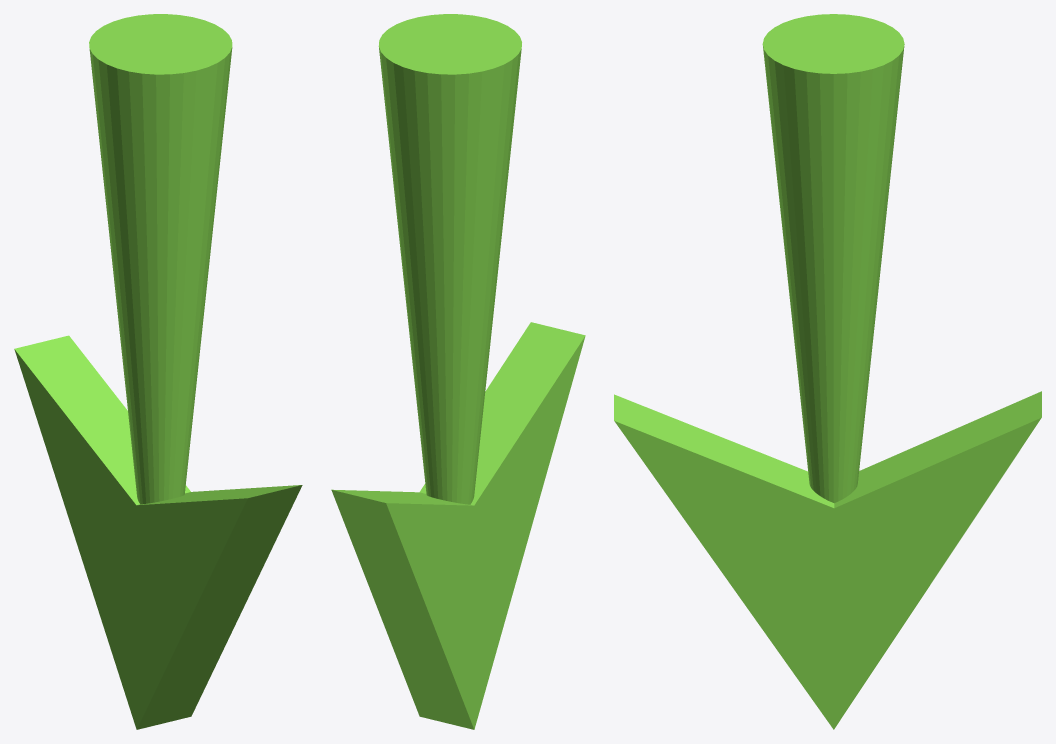
Rendered from arrow.glb.
3 views of the same model, side by side, from view 1: azimuth 30°, elevation 25°; view 2: azimuth 150°, elevation 25°; view 3: azimuth 270°, elevation 25° (orthographic).
Visible parts, largest first — view 1: Cone, Cube; view 2: Cone, Cube; view 3: Cube, Cone.
Part boxes in pixels (box(x1,y1,x2,y2)): Cone: box(89, 14, 232, 504); Cube: box(14, 335, 302, 729); Cone: box(378, 14, 521, 504); Cube: box(331, 322, 585, 729); Cube: box(614, 391, 1041, 729); Cone: box(762, 14, 904, 503).
Size of the model in its own units: 2.43 by 12.69 by 7.33.
